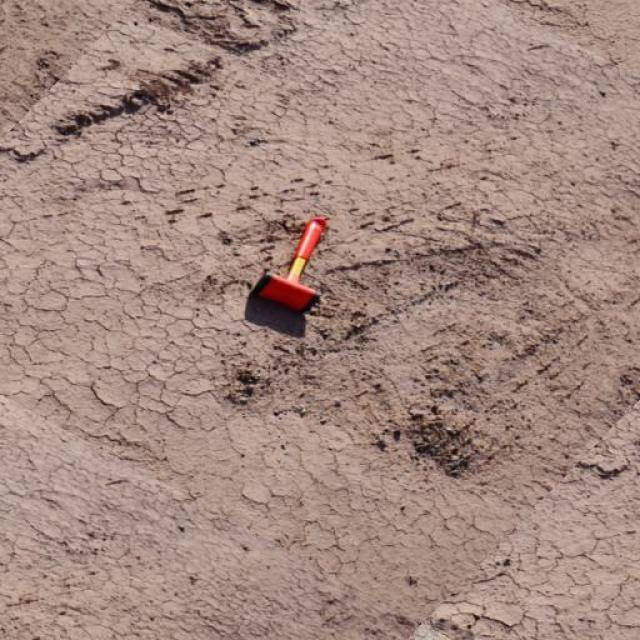mallet: (248, 215, 328, 313)
